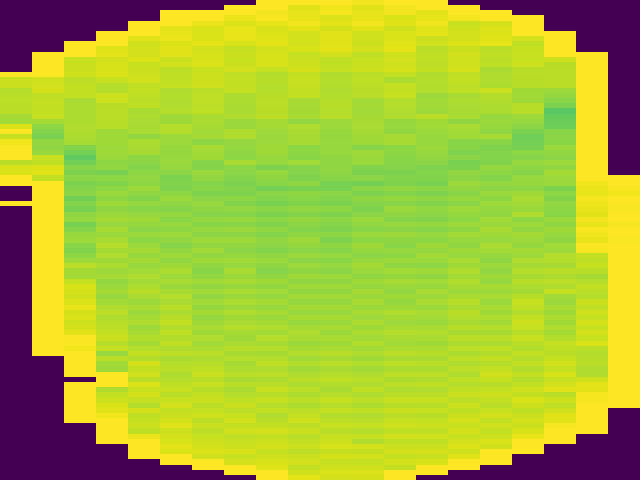cylinder: (1, 1, 640, 479)
